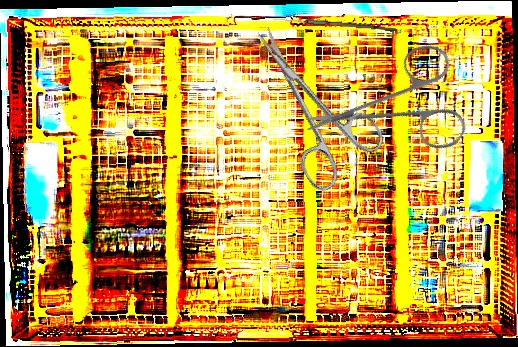Iris Scissors: (301, 7, 496, 203), (228, 5, 392, 196)
Surgical Spoon: (273, 16, 397, 32)
